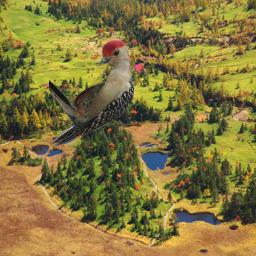Woodpecker: (49, 39, 134, 151)
